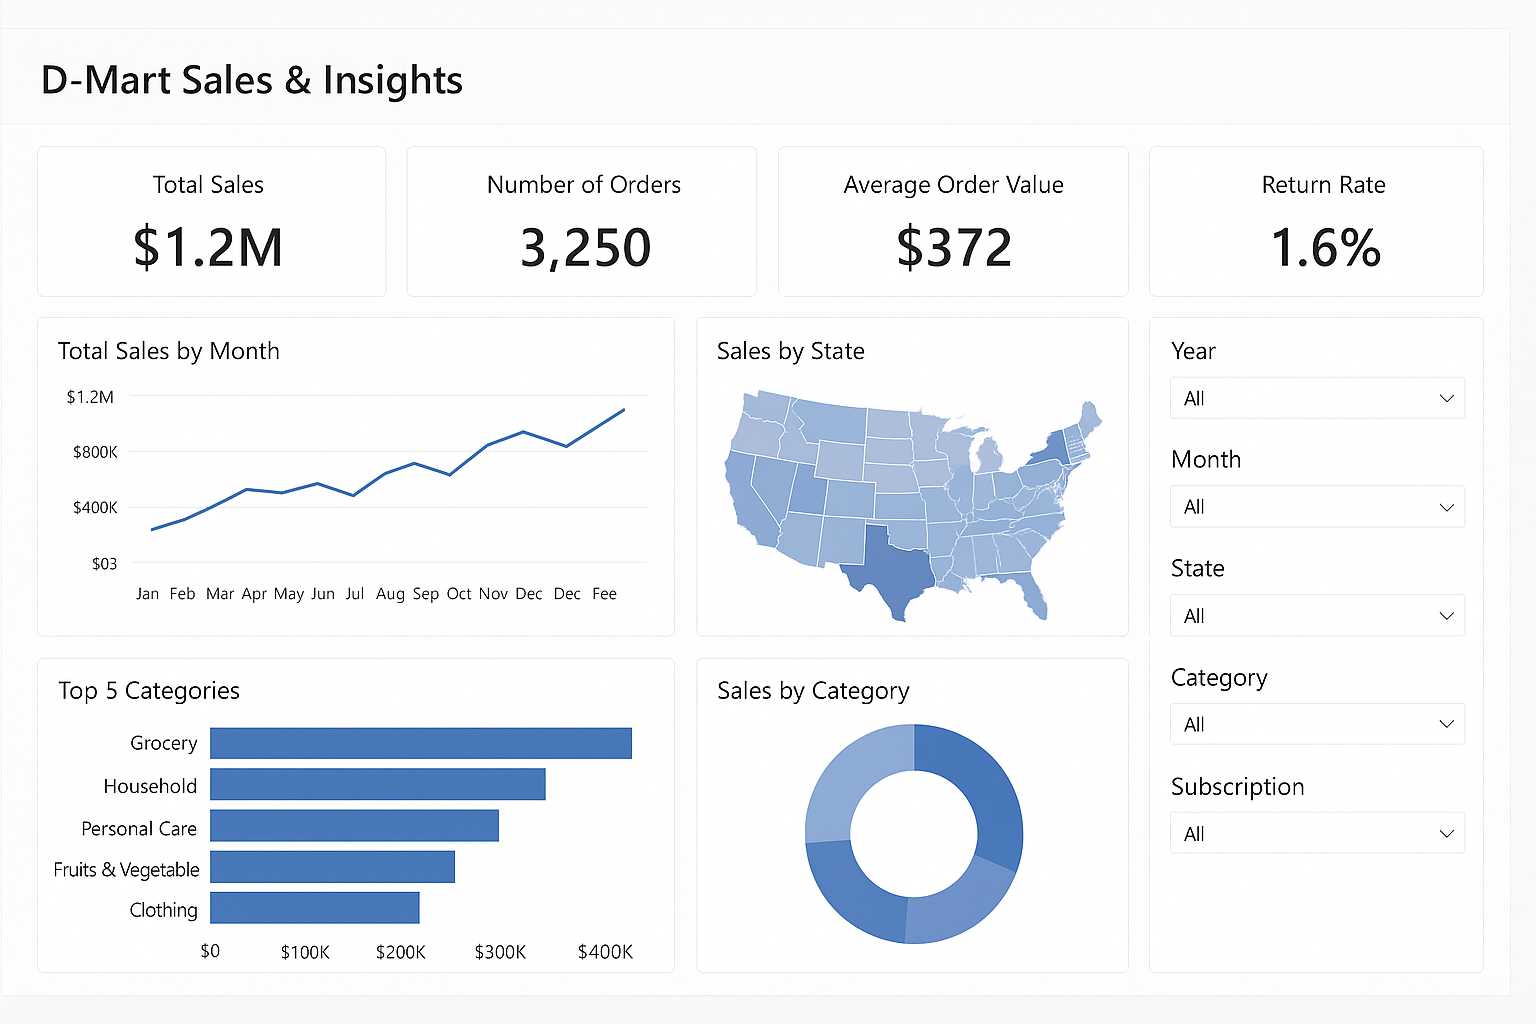

The page's visual inventory and layout, read from the dashboard file:
{"tool":"powerbi","page":{"name":"Dmart Analysis","canvas":[1280,720],"ordinal":0},"visuals":[{"type":"gauge","title":"Average Order Value","fields":{"Y":["Dmart Dataset.Average_Order_Value"]},"box":[1003.2,158.5,263.4,138.9],"z":0},{"type":"card","title":"Total Sales","fields":{"Values":["Dmart Dataset.Total Sales"]},"box":[847.8,58.6,186.2,87.5],"z":1000},{"type":"areaChart","title":"Sales by Month","fields":{"Category":["Dmart Dataset.Month Short"],"Y":["Dmart Dataset.Total Sales"]},"box":[15.4,159.5,548.4,289.1],"z":2000},{"type":"filledMap","title":"Sales by State","fields":{"Category":["Dmart Dataset.State"]},"box":[576.2,158.5,407.5,288.1],"z":3000},{"type":"donutChart","title":"Sales by Category","fields":{"Category":["Dmart Dataset.Category"],"Y":["Dmart Dataset.Total Sales"]},"box":[576.2,456.8,414.7,254.1],"z":4000},{"type":"columnChart","title":"Payment Method w.r.t  Order Status","fields":{"Category":["Dmart Dataset.Payment Method"],"Y":["CountNonNull(Dmart Dataset.Order Status)"]},"box":[12.3,457.9,548.4,254.1],"z":5000},{"type":"slicer","fields":{"Values":["Dmart Dataset.Year"]},"box":[1003.2,457.9,263.4,63.8],"z":6000},{"type":"slicer","fields":{"Values":["Dmart Dataset.Subscription"]},"box":[1003.3,640,263.3,68.9],"z":7000},{"type":"slicer","fields":{"Values":["Dmart Dataset.Month"]},"box":[1003.3,520,263.3,62.2],"z":8000},{"type":"slicer","fields":{"Values":["Dmart Dataset.Category"]},"box":[1003.3,582.2,263.3,60],"z":9000},{"type":"gauge","fields":{"Y":["Dmart Dataset.Return_Rate %"]},"box":[1003.2,308.7,263.4,139.9],"z":10000},{"type":"card","title":"Number of Orders","fields":{"Values":["Dmart Dataset.Number of Orders"]},"box":[1061.9,58.6,204.8,87.5],"z":11000},{"type":"actionButton","title":"Dashboard","box":[12.3,108,204.8,40.1],"z":11001},{"type":"actionButton","title":"Information","box":[236.7,108,204.8,40.1],"z":11002}]}

Visuals, with their boxes on the page's 1280x720 design canvas (x1, y1, x2, y2). These are canvas units, not pixel positions in the 1536x1024 screenshot, which may show the page scaled, cropped or inside an application window:
"Average Order Value" gauge: [x1=1003, y1=158, x2=1267, y2=297]
"Total Sales" card: [x1=848, y1=59, x2=1034, y2=146]
"Sales by Month" areaChart: [x1=15, y1=160, x2=564, y2=449]
"Sales by State" filledMap: [x1=576, y1=158, x2=984, y2=447]
"Sales by Category" donutChart: [x1=576, y1=457, x2=991, y2=711]
"Payment Method w.r.t  Order Status" columnChart: [x1=12, y1=458, x2=561, y2=712]
slicer - Dmart Dataset.Year: [x1=1003, y1=458, x2=1267, y2=522]
slicer - Dmart Dataset.Subscription: [x1=1003, y1=640, x2=1267, y2=709]
slicer - Dmart Dataset.Month: [x1=1003, y1=520, x2=1267, y2=582]
slicer - Dmart Dataset.Category: [x1=1003, y1=582, x2=1267, y2=642]
gauge - Dmart Dataset.Return_Rate %: [x1=1003, y1=309, x2=1267, y2=449]
"Number of Orders" card: [x1=1062, y1=59, x2=1267, y2=146]
"Dashboard" actionButton: [x1=12, y1=108, x2=217, y2=148]
"Information" actionButton: [x1=237, y1=108, x2=442, y2=148]
